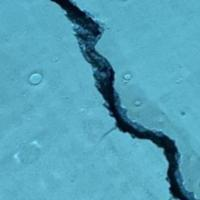crack: (49, 0, 197, 199)
